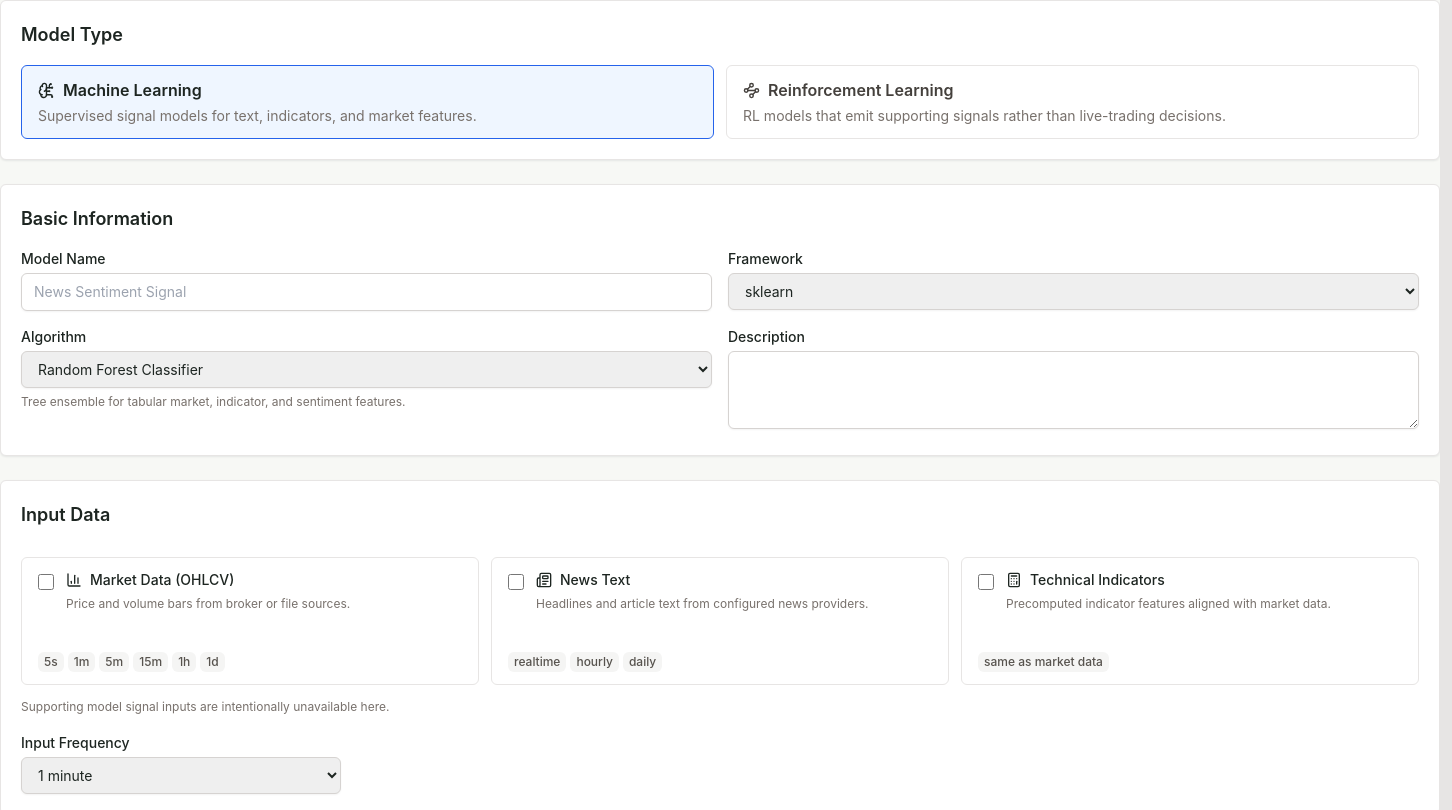
SupportingModelForm › filters algorithms by selected framework
Select "tensorflow" in the dropdown labelled "Framework" at (1074, 292), box [728,273,1419,310]
(page scrolled)
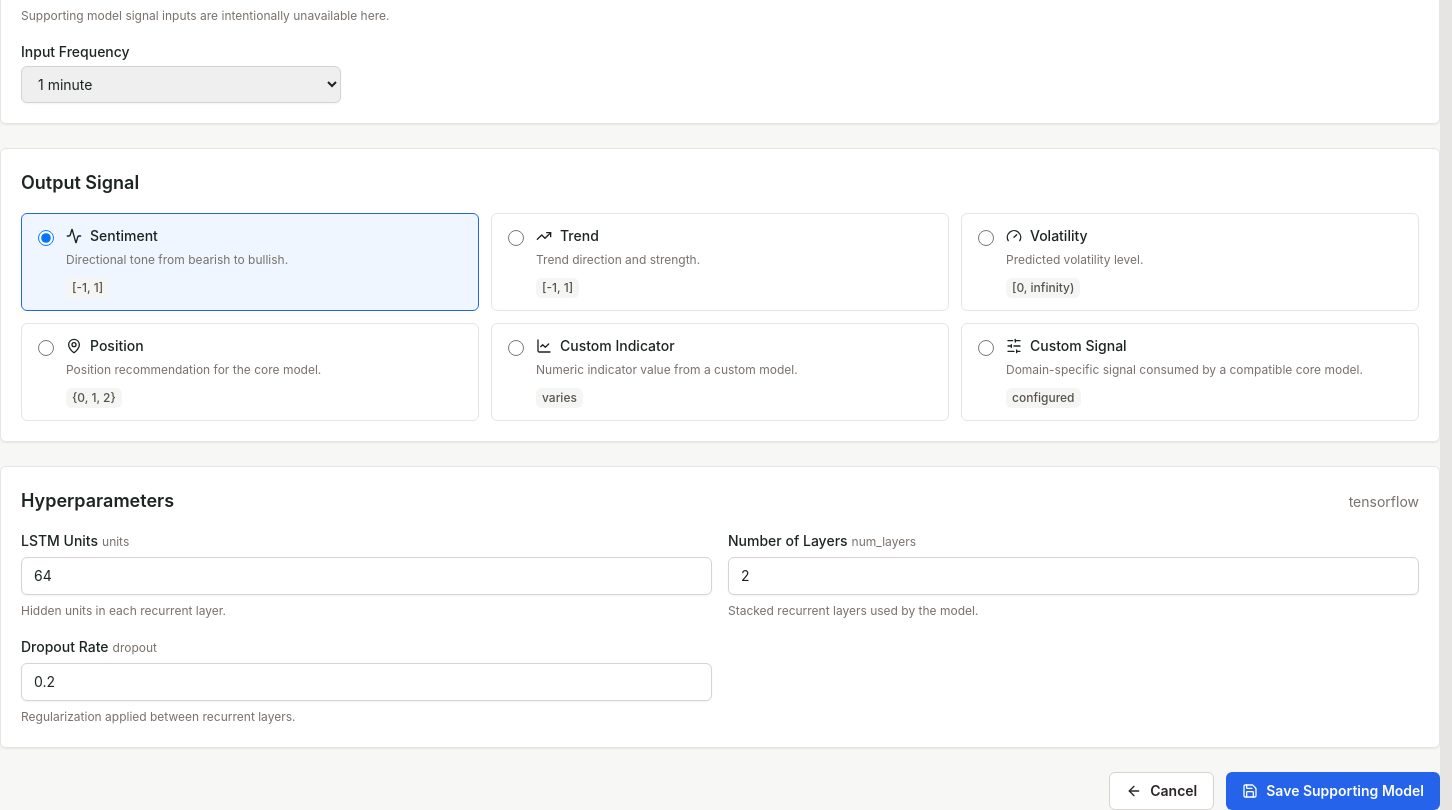
Expected: the number field labelled "LSTM Units" is shown, [21,557,712,595]
